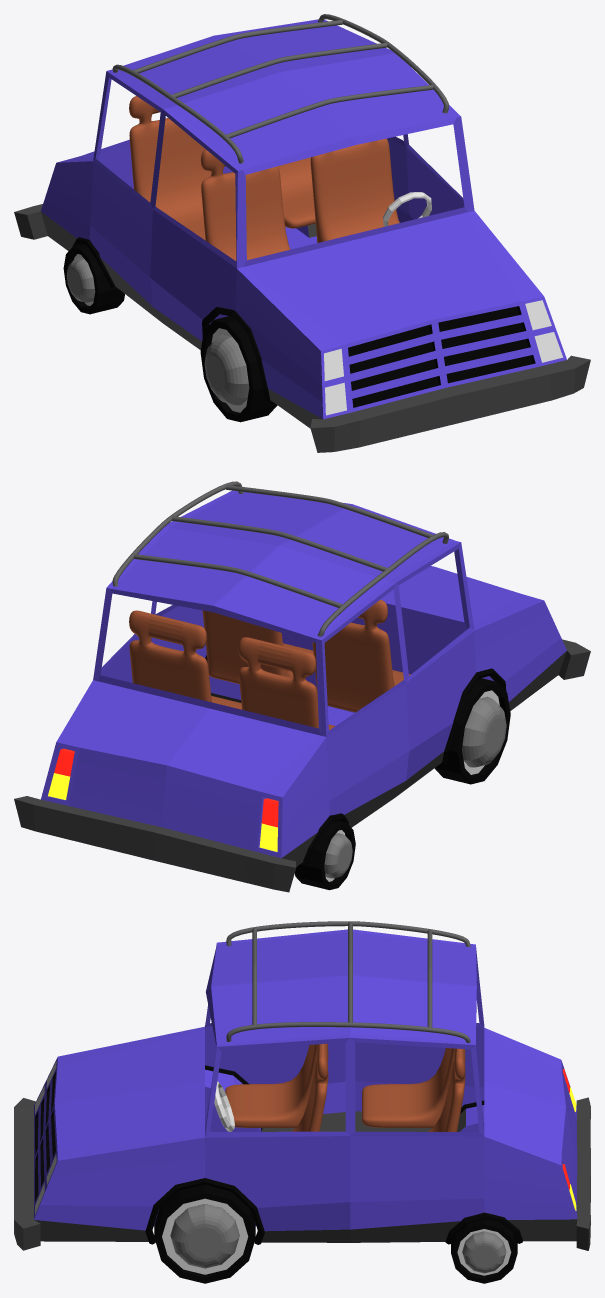
File: KSS_Car.fbx
The picture shows the model from 3 angles, top to bottom: view 1: azimuth 30°, elevation 25°; view 2: azimuth 150°, elevation 25°; view 3: azimuth 270°, elevation 25°; orthographic projection. The views are drawn at different scales.
Visible parts, largest first — view 1: Car Body, 큐브, 큐브.003, 큐브.001, Car Front .001, Car Behind.001, 큐브.002, BézierCurve, Car Body.001, BézierCurve.003, BézierCurve.002, BézierCurve.001; view 2: Car Body, 큐브.001, 큐브.002, 큐브.003, Car Front .001, 큐브, Car Behind.001, BézierCurve, BézierCurve.003, Car Body.001, BézierCurve.002, BézierCurve.001; view 3: Car Body, Car Front .001, 큐브.003, 큐브.001, Car Behind.001, BézierCurve, Car Body.001, 큐브, 큐브.002, Torus, BézierCurve.002, BézierCurve.003 (+1 smaller).
Boxes of the visible parts, x1=… form: Car Body: x1=14, y1=19, x2=590, y2=452; 큐브: x1=310, y1=138, x2=399, y2=242; 큐브.003: x1=129, y1=96, x2=211, y2=240; 큐브.001: x1=200, y1=149, x2=290, y2=260; Car Front .001: x1=200, y1=316, x2=277, y2=422; Car Behind.001: x1=63, y1=245, x2=124, y2=314; 큐브.002: x1=278, y1=157, x2=315, y2=228; BézierCurve: x1=112, y1=14, x2=448, y2=163; Car Body.001: x1=72, y1=237, x2=270, y2=401; BézierCurve.003: x1=171, y1=42, x2=387, y2=97; BézierCurve.002: x1=133, y1=20, x2=342, y2=73; BézierCurve.001: x1=226, y1=85, x2=433, y2=138; Car Body: x1=14, y1=490, x2=590, y2=892; 큐브.001: x1=312, y1=599, x2=410, y2=712; 큐브.002: x1=129, y1=610, x2=241, y2=709; 큐브.003: x1=238, y1=637, x2=334, y2=730; Car Front .001: x1=434, y1=678, x2=510, y2=784; 큐브: x1=202, y1=610, x2=315, y2=683; Car Behind.001: x1=295, y1=821, x2=355, y2=890; BézierCurve: x1=112, y1=481, x2=448, y2=636; BézierCurve.003: x1=172, y1=516, x2=387, y2=571; Car Body.001: x1=205, y1=655, x2=506, y2=862; BézierCurve.002: x1=133, y1=554, x2=342, y2=607; BézierCurve.001: x1=226, y1=485, x2=433, y2=537; Car Body: x1=14, y1=929, x2=590, y2=1250; Car Front .001: x1=154, y1=1184, x2=255, y2=1283; 큐브.003: x1=362, y1=1048, x2=454, y2=1127; 큐브.001: x1=225, y1=1044, x2=317, y2=1127; Car Behind.001: x1=451, y1=1219, x2=517, y2=1283; BézierCurve: x1=226, y1=921, x2=470, y2=1042; Car Body.001: x1=145, y1=1065, x2=522, y2=1244; 큐브: x1=291, y1=1043, x2=328, y2=1131; 큐브.002: x1=428, y1=1048, x2=465, y2=1131; Torus: x1=214, y1=1081, x2=234, y2=1131; BézierCurve.002: x1=427, y1=929, x2=432, y2=1027; BézierCurve.003: x1=348, y1=921, x2=352, y2=1022.
Size of what is drawn, in the model's own units: 249 by 231 by 461.
